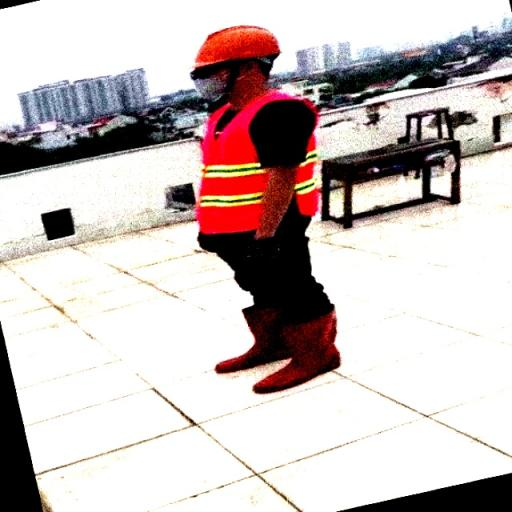Person: (166, 25, 372, 410)
boots: (250, 307, 342, 398), (210, 296, 304, 378)
gloves: (239, 236, 284, 273), (191, 231, 222, 256)
goggles: (182, 65, 242, 79)
helmet: (191, 24, 283, 64)
vest: (185, 82, 324, 242)
